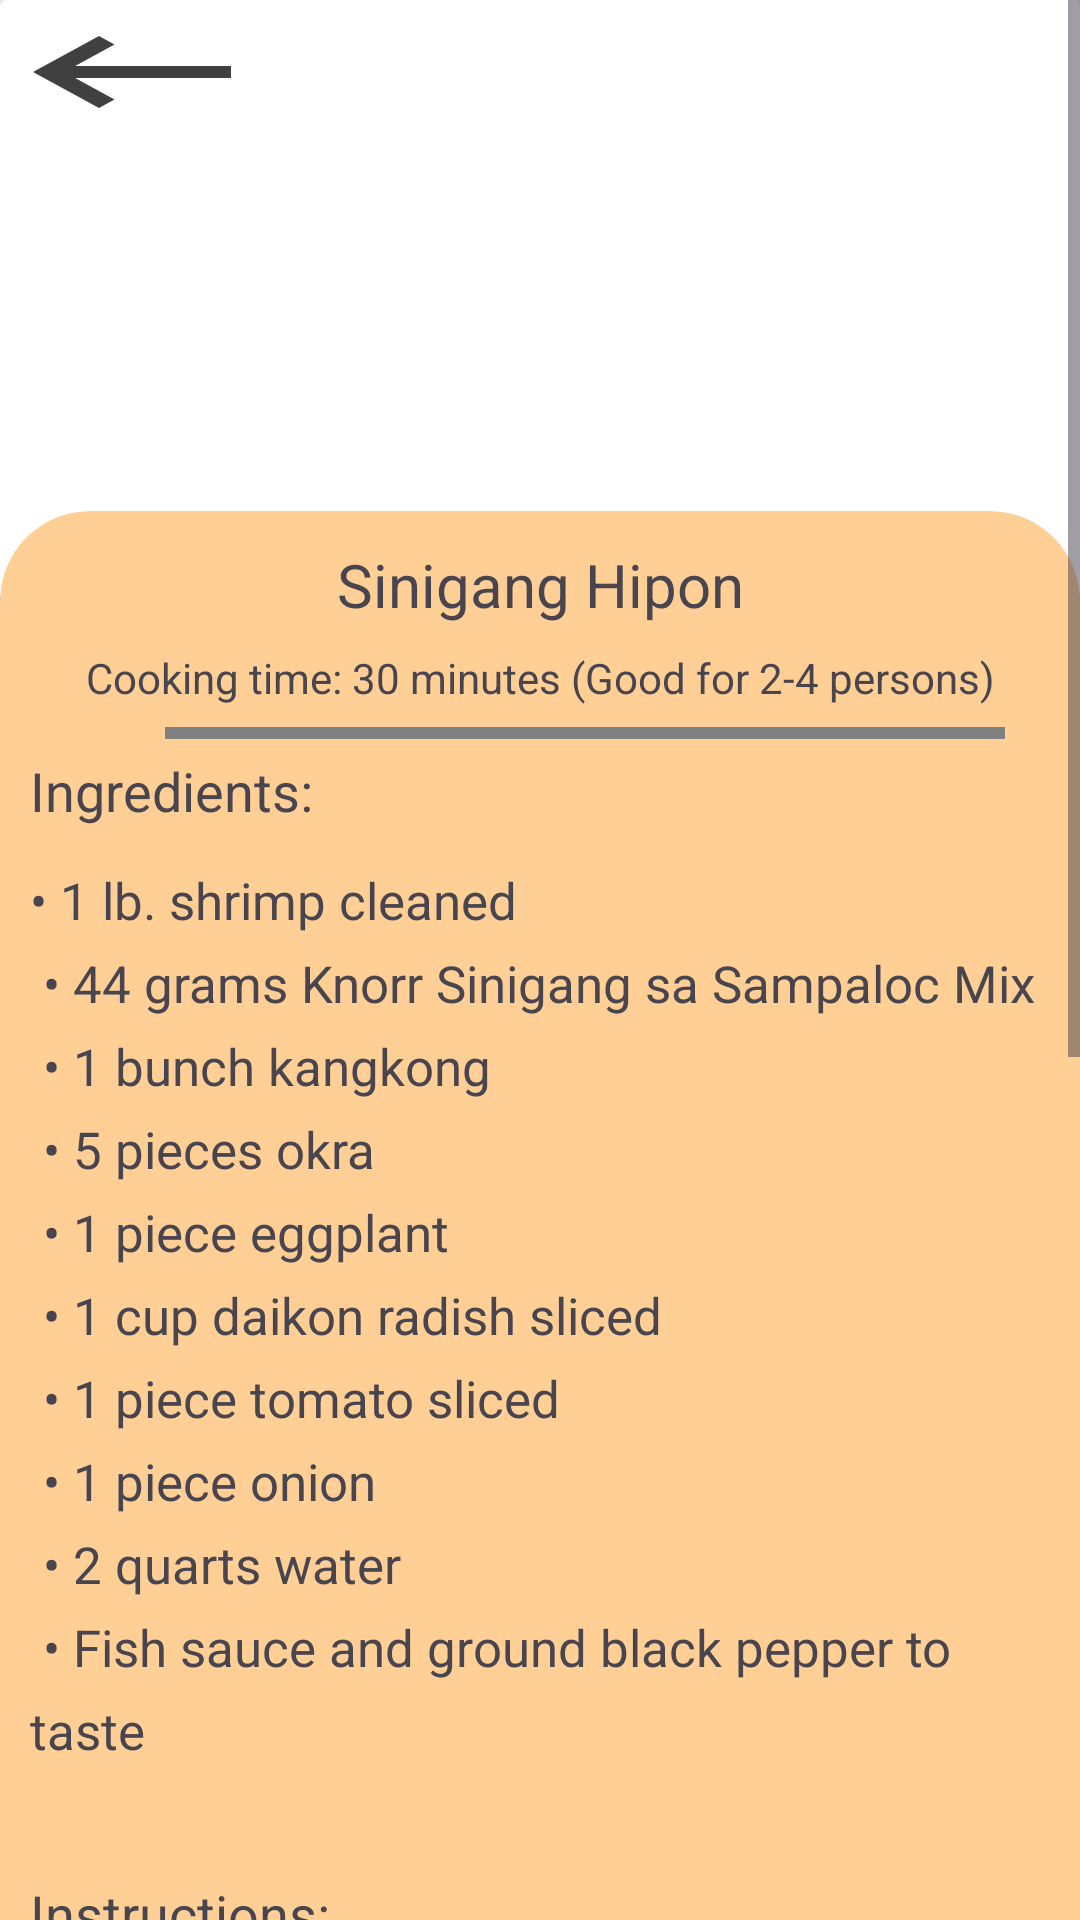

Named icons in this screenshot (1080x1920) and their centers, point (x, y):
keyboard backspace: point (115, 54)
